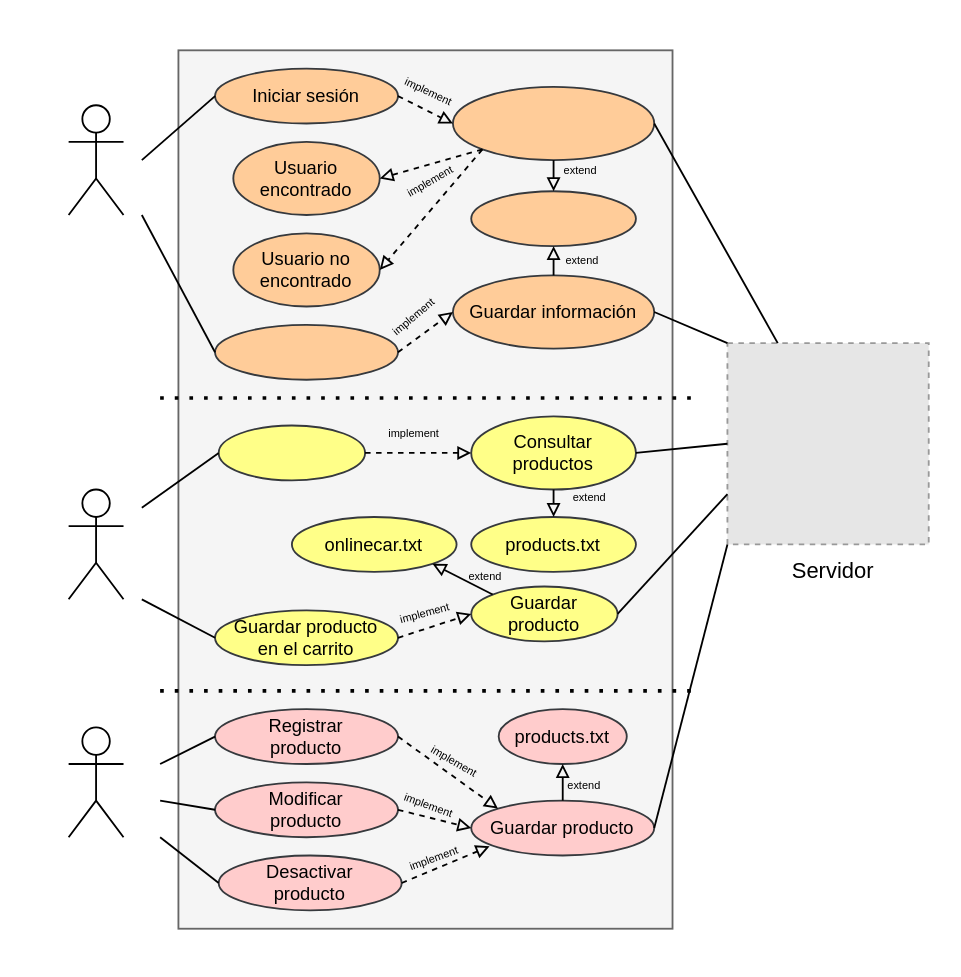
Image size: 961x977. Some labels were removed from this diagram. Grey dashed boxes stand in for pictures. Each missing label, with the centre of its shape:
"Cliente" belongs at (95,543).
"Operador" belongs at (95,781).
"Registrar usuario" belongs at (305,351).
"Seleccionar producto" belongs at (291,452).
"users.txt" belongs at (552,217).
"Usuario" belongs at (95,159).
"Validar usuario y contraseña" belongs at (552,122).
